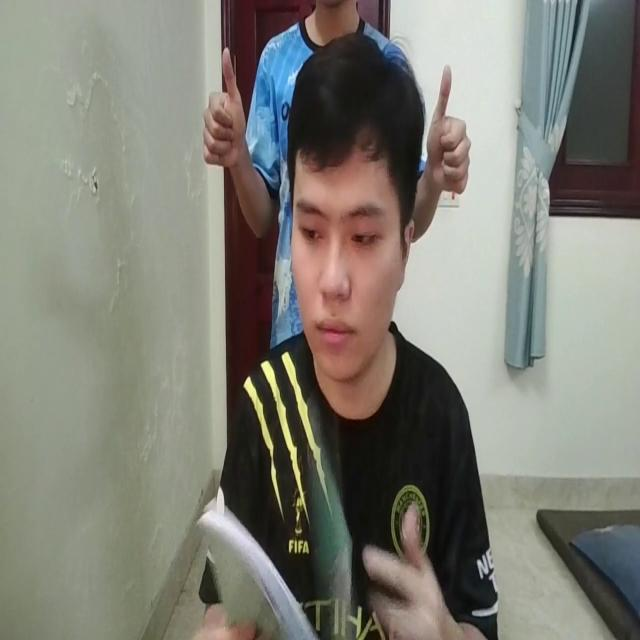book: (196, 486, 314, 640)
student: (240, 35, 493, 640)
